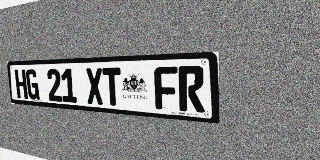1: (60, 68, 77, 103)
2: (46, 69, 62, 102)
F: (154, 66, 178, 111)
G: (25, 69, 40, 100)
H: (14, 69, 28, 99)
R: (178, 66, 205, 113)
T: (102, 67, 122, 106)
X: (85, 68, 104, 105)
